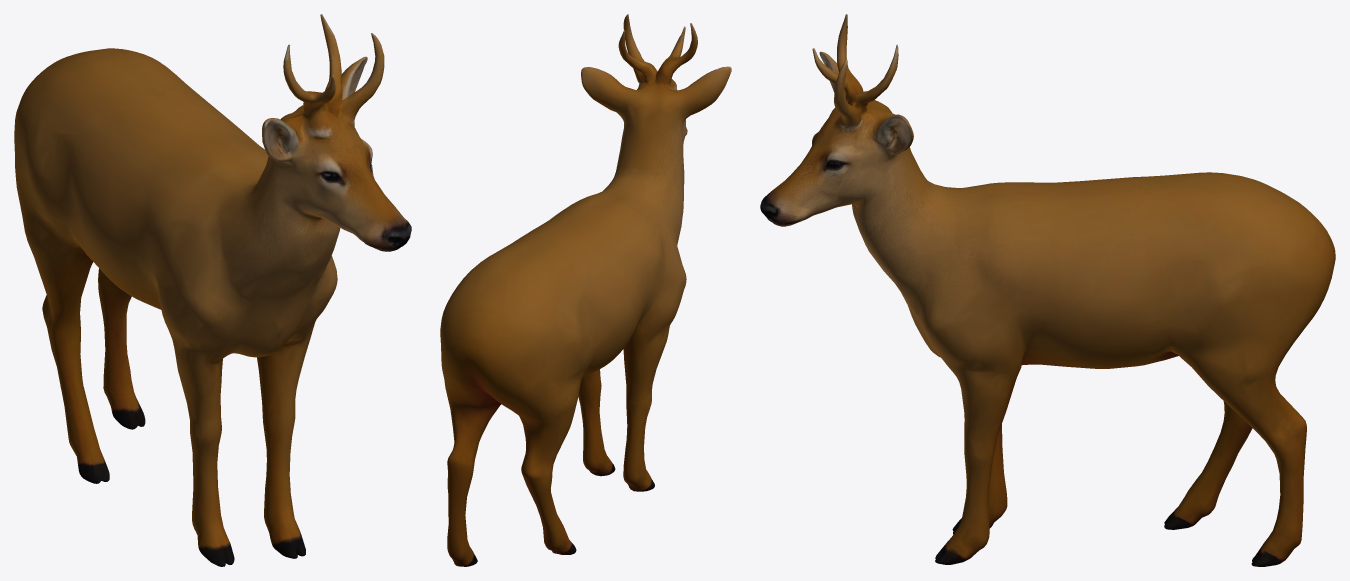
File: deer.glb
3 renders of one model, left to right at view 1: azimuth 30°, elevation 25°; view 2: azimuth 150°, elevation 25°; view 3: azimuth 270°, elevation 25°, orthographic. The views are drawn at different scales.
Parts seen in each view (by area): view 1: tripo_node_6c2f6507-4d21-41ef-97ae-134070b88fdc; view 2: tripo_node_6c2f6507-4d21-41ef-97ae-134070b88fdc; view 3: tripo_node_6c2f6507-4d21-41ef-97ae-134070b88fdc.
Boxes of the visible parts, box(x1,y1,x2,y2) form: tripo_node_6c2f6507-4d21-41ef-97ae-134070b88fdc: box(14, 14, 411, 566); tripo_node_6c2f6507-4d21-41ef-97ae-134070b88fdc: box(440, 14, 731, 566); tripo_node_6c2f6507-4d21-41ef-97ae-134070b88fdc: box(760, 14, 1335, 566).
Size of the model in its own units: 0.3099 by 0.9991 by 0.9998.
Materials: 1 (1 with a texture image).
